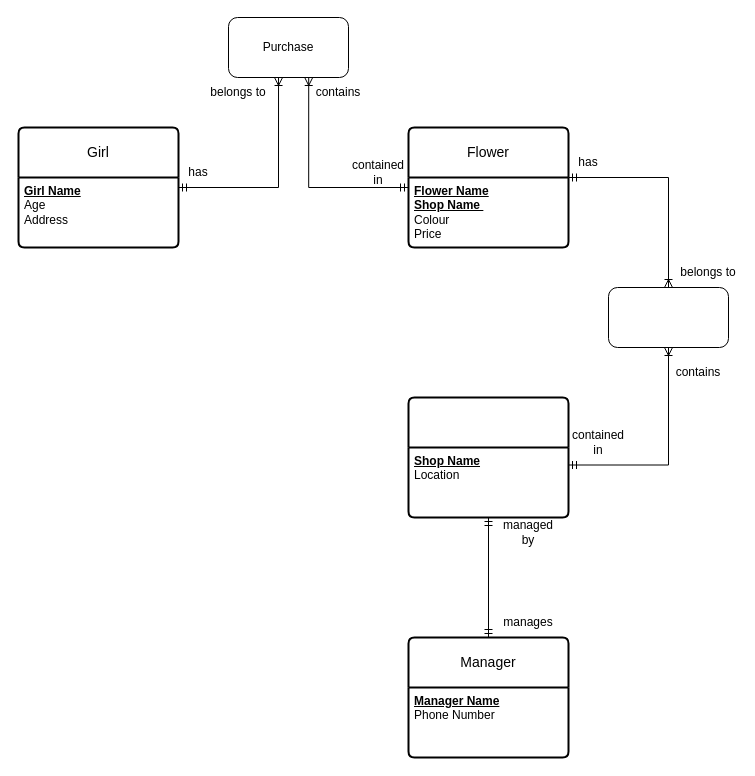
The diagram is 755 pixels wide and 776 high, and some of its shapes have lost their labels. Here are the shapes that lost their labels. From the top down, the box of each, then its label:
(608, 286, 728, 348): FlowerShopFlower
(407, 396, 569, 518): Flower Shop
